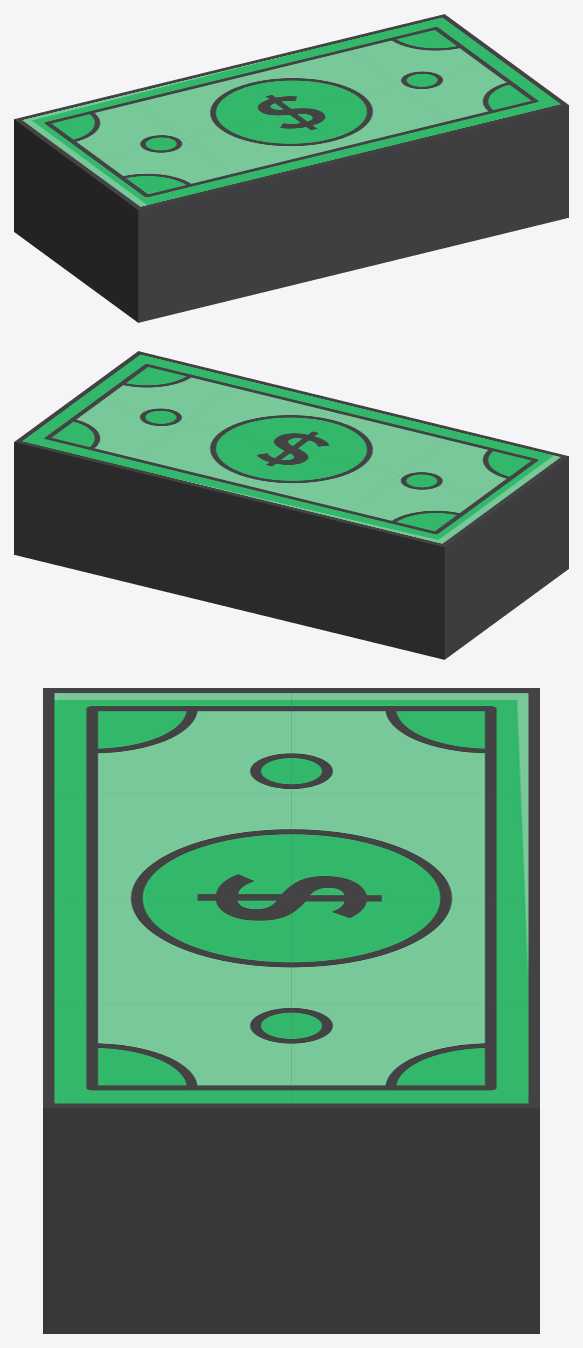
Rendered from cash.fbx.
The picture shows the model from 3 angles, top to bottom: view 1: azimuth 30°, elevation 25°; view 2: azimuth 150°, elevation 25°; view 3: azimuth 270°, elevation 25°; orthographic projection. The views are drawn at different scales.
Parts seen in each view (by area): view 1: Cube_4, Cube_6, Cube_5, Cube_7, Cube, Cube_2, Cube_3, Cube_1; view 2: Cube, Cube_2, Cube_1, Cube_3, Cube_4, Cube_6, Cube_7, Cube_5; view 3: Cube_7, Cube_3, Cube_6, Cube_5, Cube_4, Cube_2, Cube_1, Cube.
Part boxes in pixels (box(x1,y1,x2,y2)): Cube_4: box(76, 138, 245, 322); Cube_6: box(292, 86, 461, 269); Cube_5: box(184, 112, 353, 296); Cube_7: box(399, 59, 568, 243); Cube: box(14, 93, 183, 276); Cube_2: box(230, 40, 398, 111); Cube_3: box(337, 14, 506, 85); Cube_1: box(122, 66, 290, 138); Cube: box(337, 475, 506, 659); Cube_2: box(121, 423, 290, 606); Cube_1: box(229, 449, 398, 633); Cube_3: box(14, 396, 183, 580); Cube_4: box(399, 430, 568, 613); Cube_6: box(184, 377, 352, 448); Cube_7: box(76, 351, 245, 422); Cube_5: box(292, 403, 460, 475); Cube_7: box(43, 1003, 291, 1333); Cube_3: box(291, 1003, 539, 1333); Cube_6: box(43, 898, 291, 1003); Cube_5: box(43, 793, 291, 898); Cube_4: box(43, 688, 291, 793); Cube_2: box(291, 898, 539, 1003); Cube_1: box(291, 793, 539, 898); Cube: box(291, 688, 539, 793).
Bounding box in the file's own units: 40 × 10 × 20.
8 materials, 8 textured.
